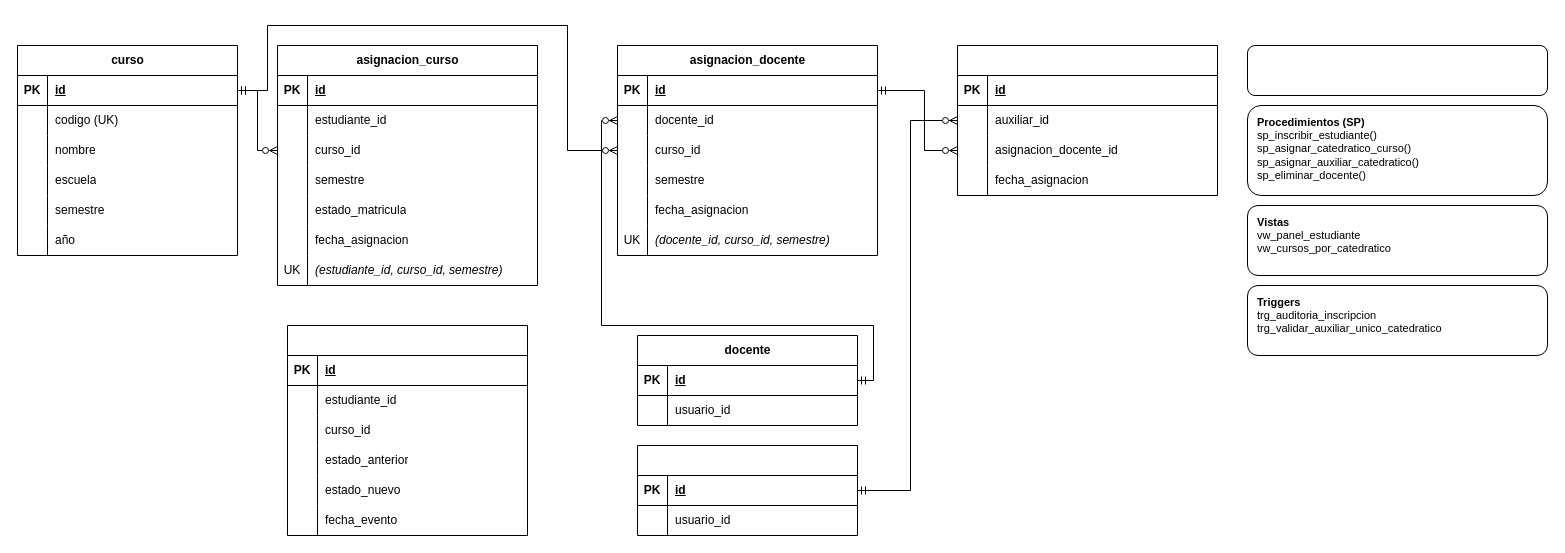
This 1565x553 diagram has some shape labels left out. The shapes that lost their labels are listed below. From the top down, each one's box as (x1, y1, x2, y2) in pixels, then its label:
(1246, 44, 1548, 96): Funciones fn_estado_matricula()
(956, 44, 1218, 196): asignacion_auxiliar
(286, 324, 528, 536): auditoria_inscripcion
(636, 444, 858, 536): auxiliar
